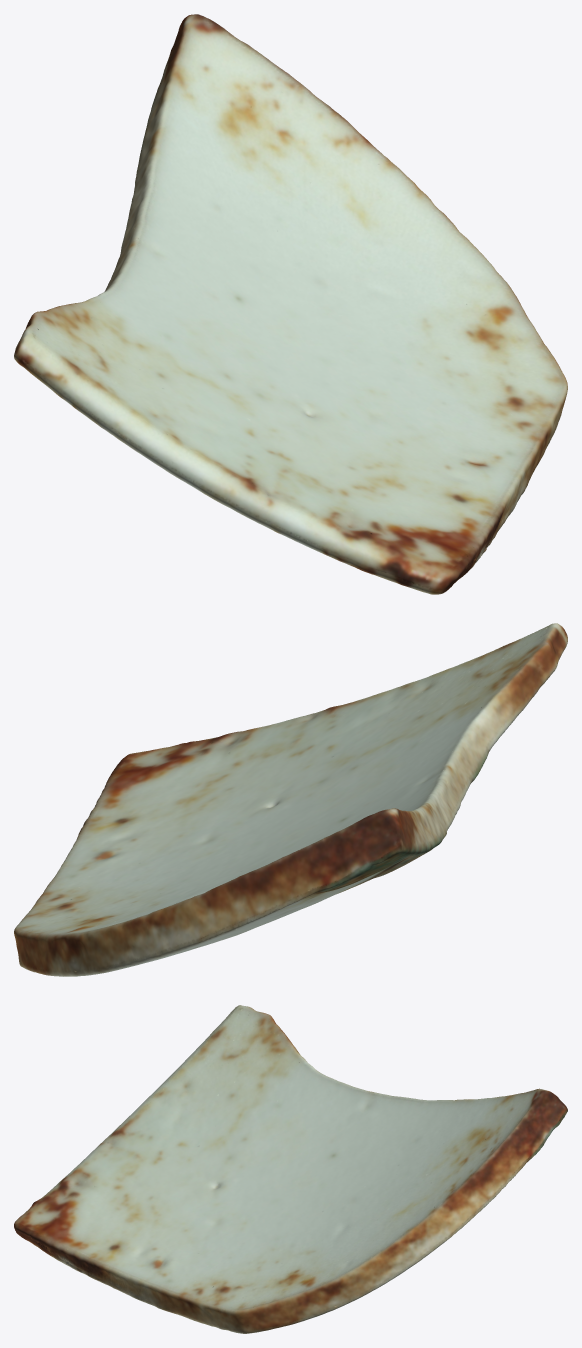
3 views of the same model, one above another, from view 1: azimuth 30°, elevation 25°; view 2: azimuth 210°, elevation 25°; view 3: azimuth 270°, elevation 25° (orthographic). The views are drawn at different scales.
Parts seen in each view (by area): view 1: Node; view 2: Node; view 3: Node.
Boxes of the visible parts, <box> form: Node: <box>14,14,567,594</box>; Node: <box>14,623,567,976</box>; Node: <box>14,1005,567,1333</box>.
Size of the model in its own units: 47.54 by 23.28 by 58.16.
1 material, 1 textured.
